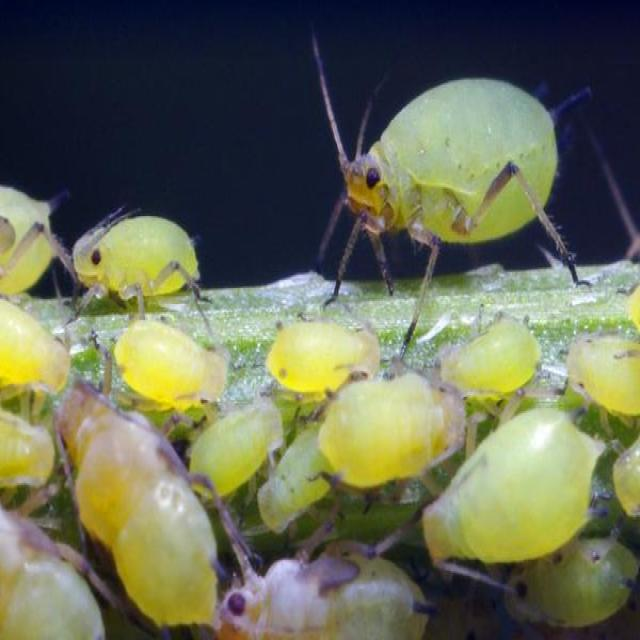Aphids: (291, 26, 623, 323), (58, 385, 245, 628), (417, 423, 601, 581), (48, 190, 215, 316), (211, 545, 417, 640), (312, 376, 464, 499), (243, 317, 392, 411), (113, 321, 233, 420), (177, 404, 293, 504), (435, 318, 550, 414), (0, 304, 77, 405), (565, 325, 640, 409)
